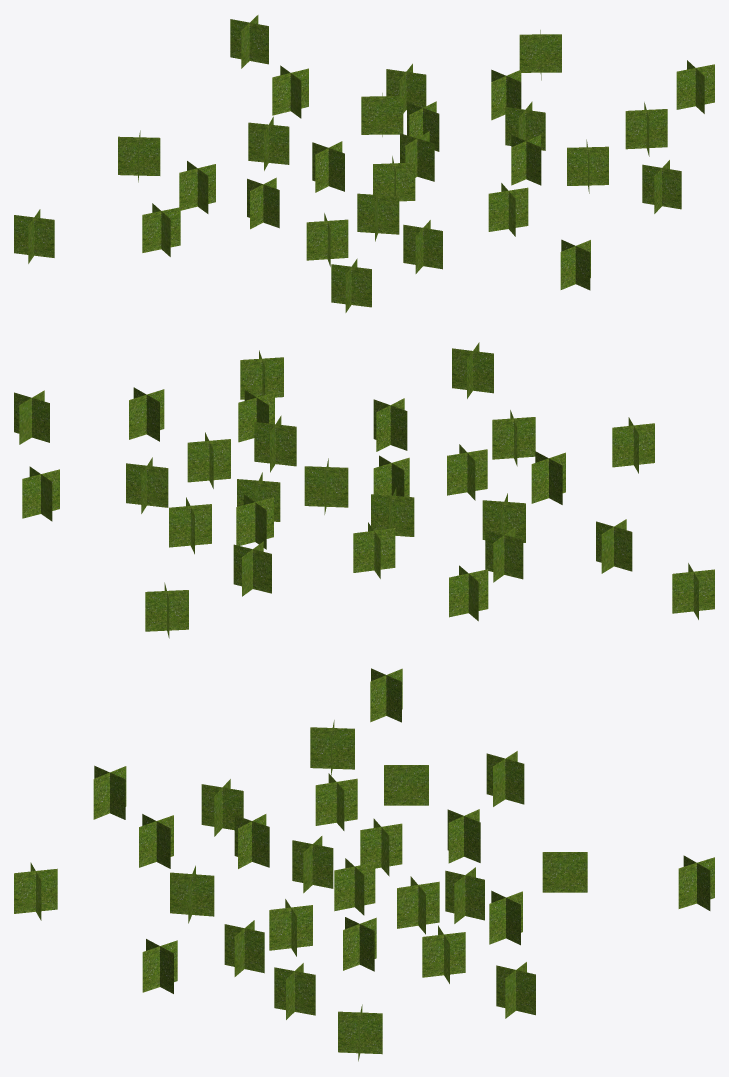
The model's file is grass.obj.
3 renders of one model, top to bottom at view 1: azimuth 30°, elevation 25°; view 2: azimuth 150°, elevation 25°; view 3: azimuth 270°, elevation 25°, orthographic. The views are drawn at different scales.
Visible parts, largest first — view 1: default; view 2: default; view 3: default.
Boxes of the visible parts, x1=… form: default: x1=14, y1=15, x2=714, y2=312; default: x1=14, y1=342, x2=714, y2=638; default: x1=14, y1=668, x2=714, y2=1061.
Bounding box in the file's own units: 22.3 × 1.2 × 18.68.
